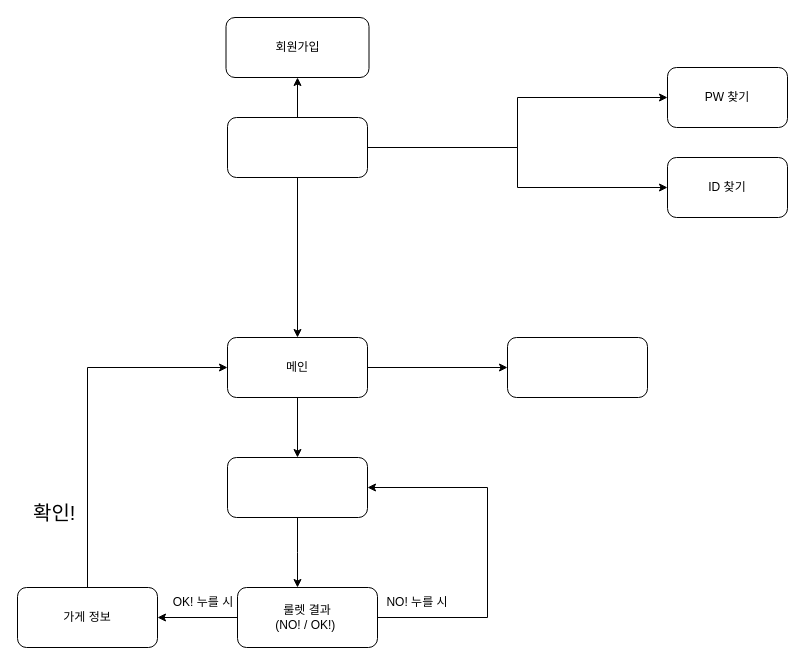
This 805x665 diagram has some shape labels left out. Here are the shapes that lost their labels. From the top down, the box of each, then its label:
(226, 116, 368, 178): 로그인
(506, 336, 648, 398): 회원정보 (수정, 탈퇴)
(226, 456, 368, 518): 룰렛 카테고리 설정
